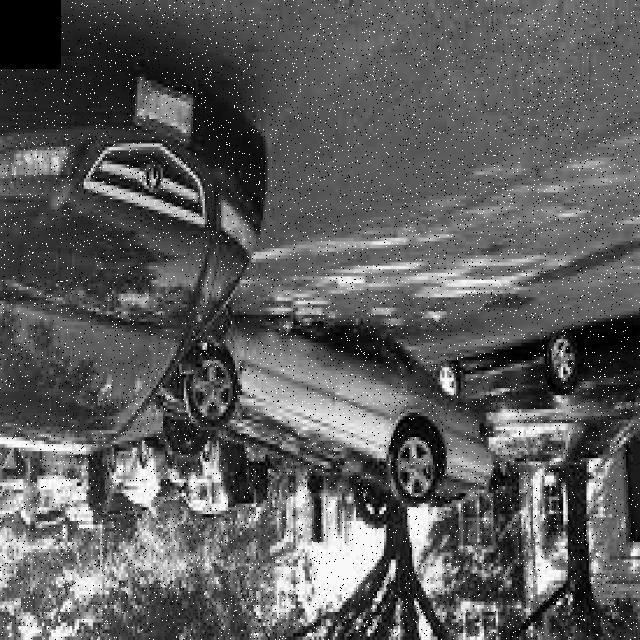severe: (149, 306, 496, 534)
